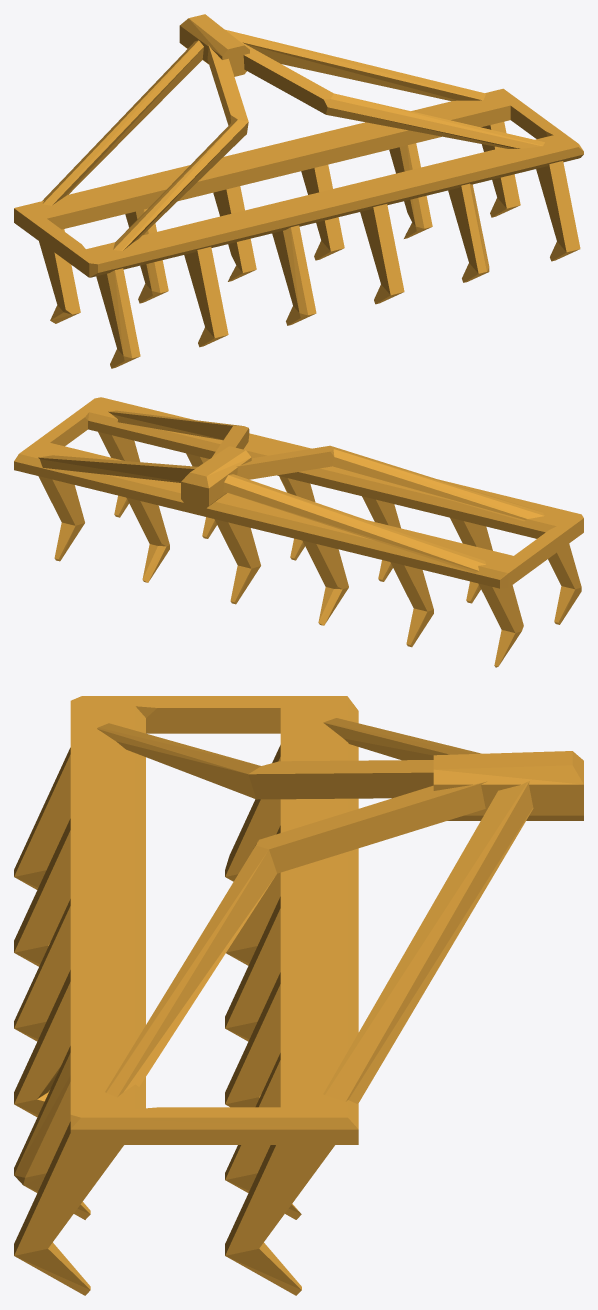
Rendered from 040 Plough.FBX.
3 renders of one model, top to bottom at view 1: azimuth 30°, elevation 25°; view 2: azimuth 150°, elevation 25°; view 3: azimuth 270°, elevation 25°, orthographic. The views are drawn at different scales.
Visible parts, largest first — view 1: Plough_1; view 2: Plough_1; view 3: Plough_1.
Boxes of the visible parts, x1,y1,x2,y2 form: Plough_1: [14, 14, 583, 368]; Plough_1: [14, 397, 583, 667]; Plough_1: [14, 696, 583, 1295].
Bounding box in the file's own units: 177 × 67.72 × 101.
